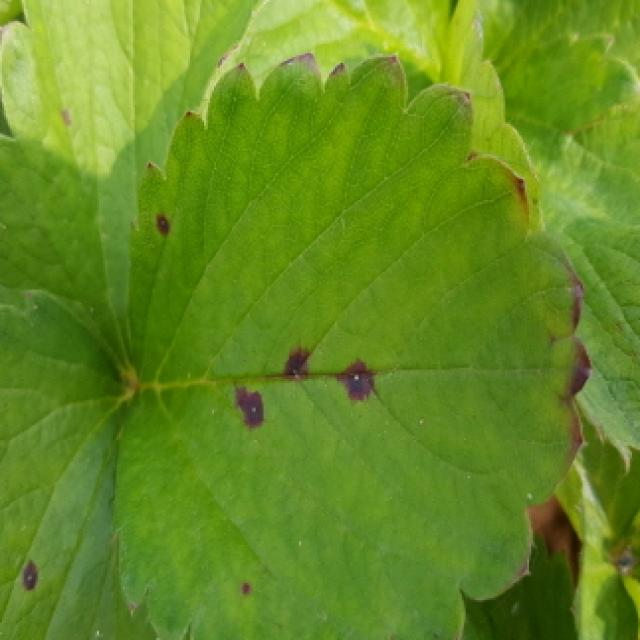Leaf Spot: (108, 51, 596, 640), (0, 0, 270, 376), (0, 286, 160, 640)
